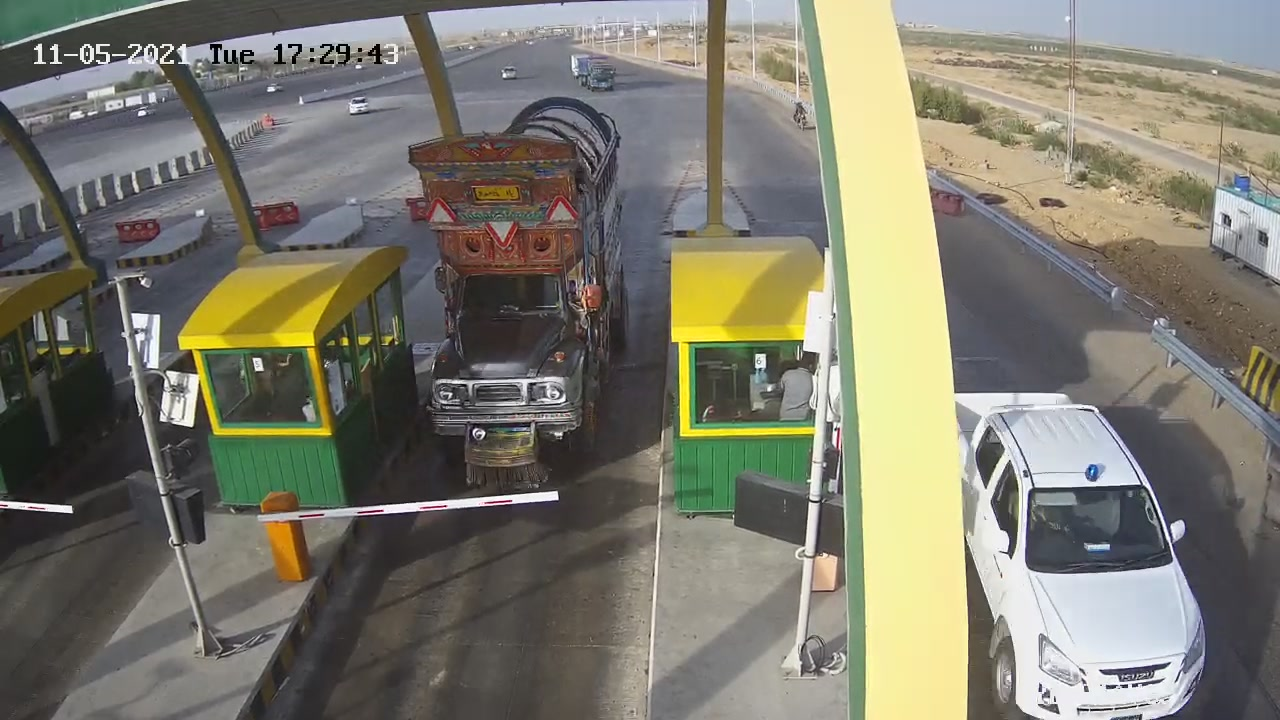F5: (391, 86, 653, 514)
